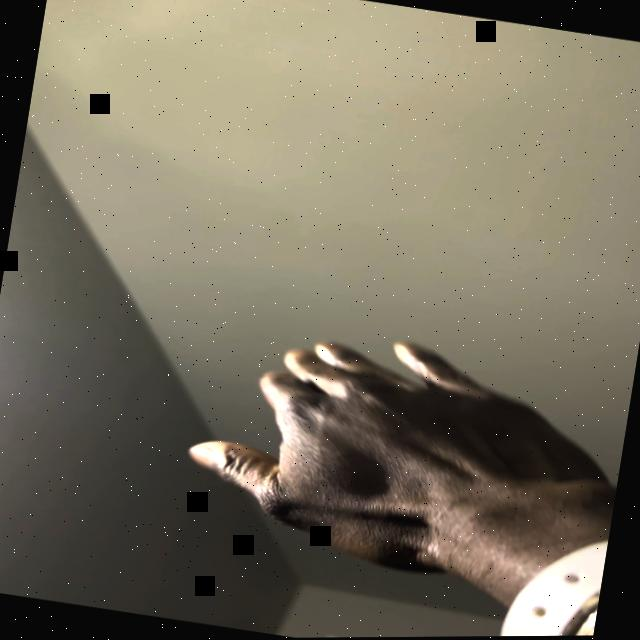Paper: (172, 308, 630, 605)
